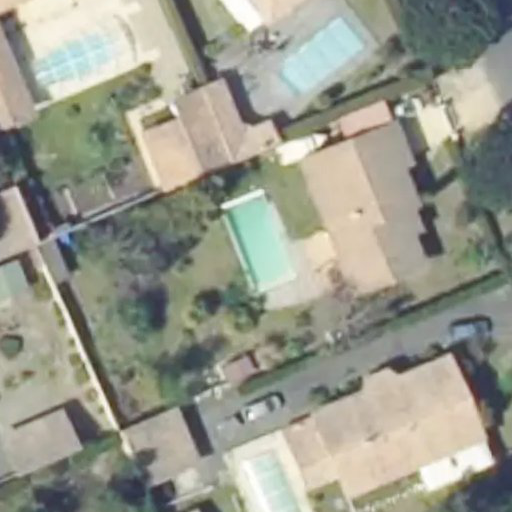pool: (224, 195, 300, 292), (26, 28, 128, 90), (282, 17, 364, 94), (245, 450, 296, 512)
